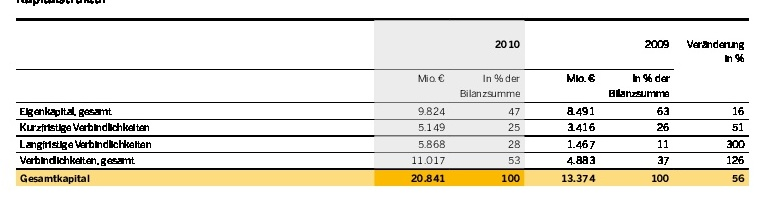table: (0, 0, 759, 205)
